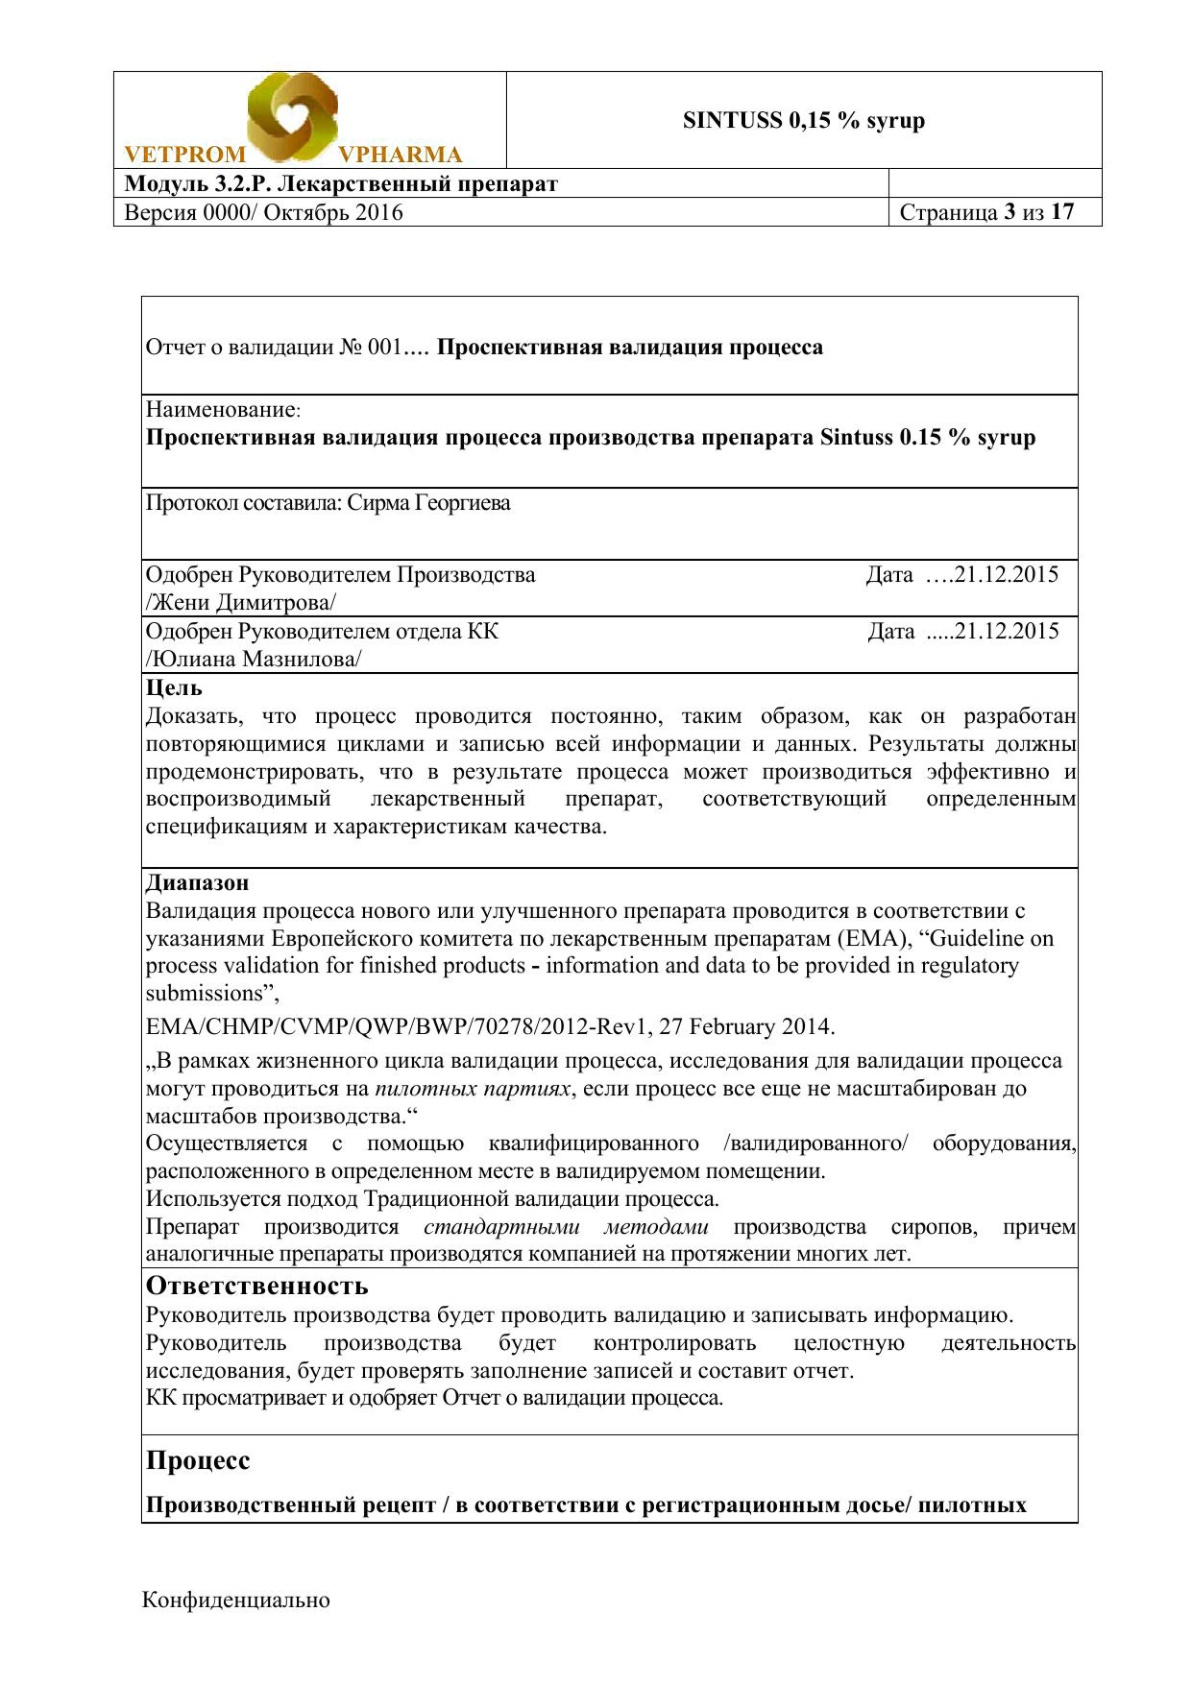full_lined: (141, 295, 1080, 1525)
merged_cells: (112, 70, 1103, 227)
